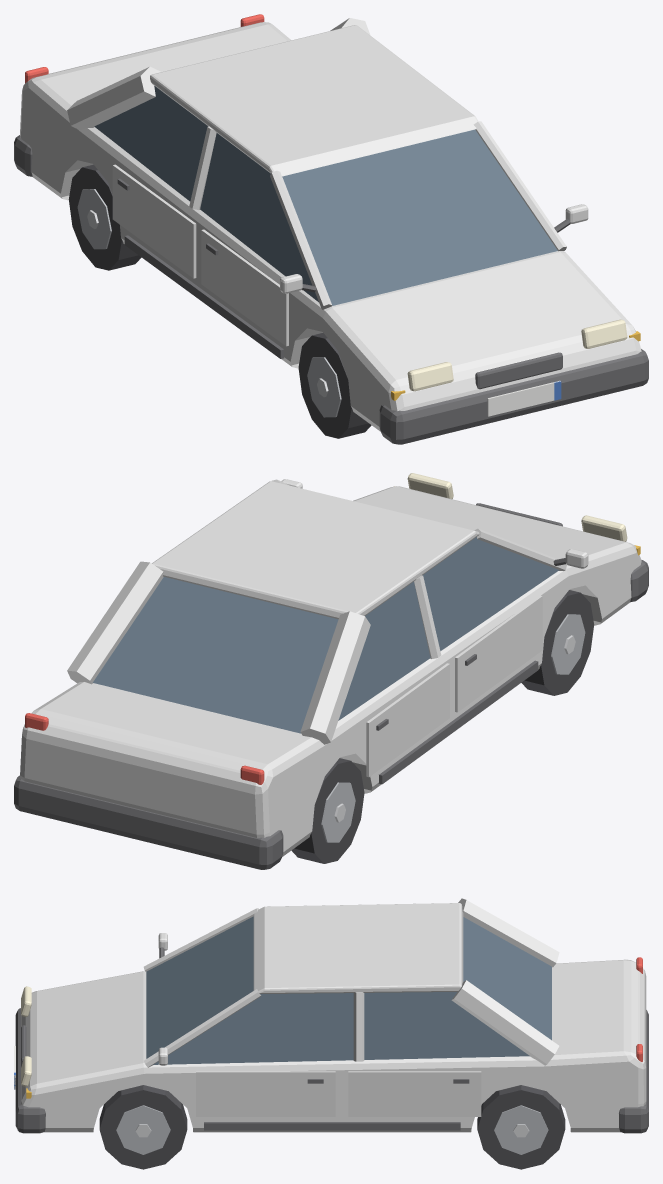
The model's file is car-sedan.glb.
3 renders of one model, top to bottom at view 1: azimuth 30°, elevation 25°; view 2: azimuth 150°, elevation 25°; view 3: azimuth 270°, elevation 25°, orthographic. The views are drawn at different scales.
Visible parts, largest first — view 1: body, detach_bumper_front, detach_door_right, wheel-front-right, wheel-back-right; view 2: body, detach_bumper_back, detach_door_right, wheel-back-right, wheel-front-right, detach_bumper_front; view 3: body, detach_door_left, wheel-front-left, wheel-back-left, detach_bumper_front, detach_bumper_back.
Part boxes in pixels (x1,y1,x2,y2): body: (20, 14, 641, 431); detach_bumper_front: (379, 349, 648, 444); detach_door_right: (201, 229, 288, 346); wheel-front-right: (298, 332, 371, 438); wheel-back-right: (68, 164, 141, 270); body: (20, 473, 641, 856); detach_bumper_back: (14, 775, 283, 869); detach_door_right: (455, 595, 542, 712); wheel-back-right: (291, 758, 364, 863); wheel-front-right: (521, 590, 594, 695); detach_bumper_front: (630, 560, 648, 601); body: (21, 898, 646, 1132); detach_door_left: (196, 1071, 335, 1116); wheel-front-left: (99, 1085, 187, 1169); wheel-back-left: (477, 1085, 565, 1169); detach_bumper_front: (14, 1008, 45, 1133); detach_bumper_back: (619, 1010, 648, 1133).
Bounding box in the file's own units: 2.18 × 1.5 × 4.77.
